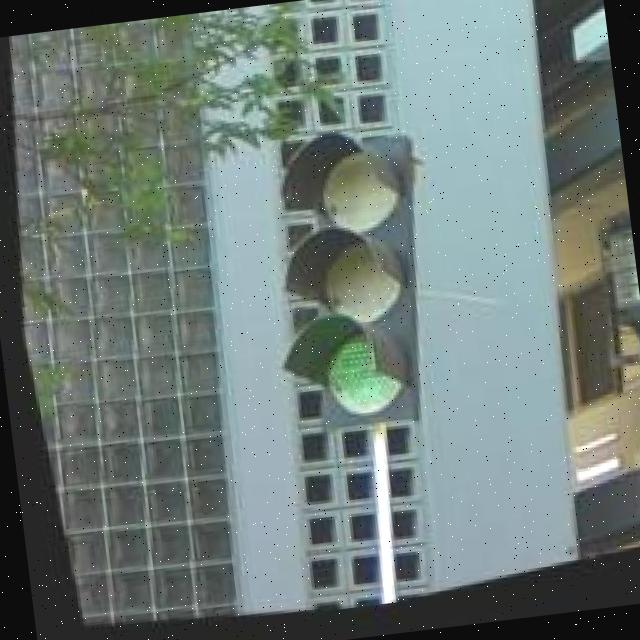green_light: (228, 116, 458, 459)
